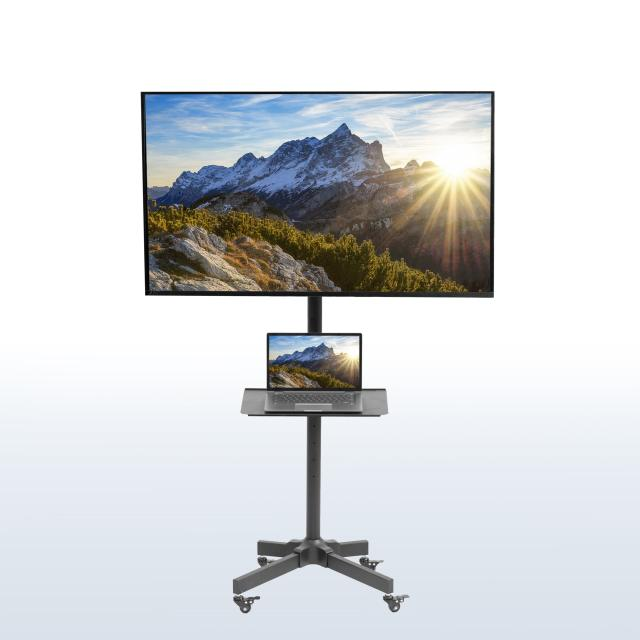electronics: (141, 92, 493, 332), (141, 92, 493, 296), (233, 332, 407, 612), (265, 333, 362, 413), (267, 332, 361, 390), (265, 390, 361, 412), (347, 388, 388, 416), (240, 388, 274, 416), (243, 390, 262, 415), (366, 397, 386, 415), (268, 334, 287, 339), (279, 413, 300, 416), (312, 414, 323, 418), (374, 567, 374, 568), (249, 394, 250, 394)
